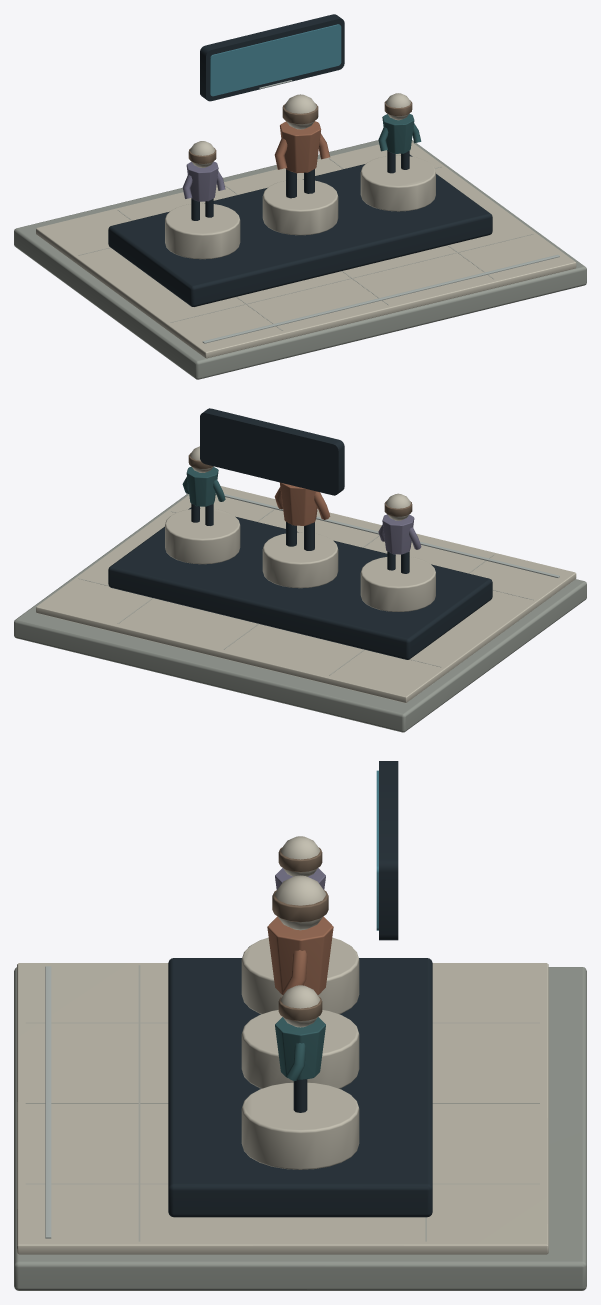
Rendered from idea-ba3674fd.glb.
3 renders of one model, top to bottom at view 1: azimuth 30°, elevation 25°; view 2: azimuth 150°, elevation 25°; view 3: azimuth 270°, elevation 25°, orthographic. The views are drawn at different scales.
Visible parts, largest first — view 1: AI Character Studio; view 2: AI Character Studio; view 3: AI Character Studio.
Boxes of the visible parts, <box> form: AI Character Studio: <box>14,14,586,379</box>; AI Character Studio: <box>14,408,586,732</box>; AI Character Studio: <box>14,761,586,1290</box>.
Bounding box in the file's own units: 4.8 × 2.5 × 3.9.
